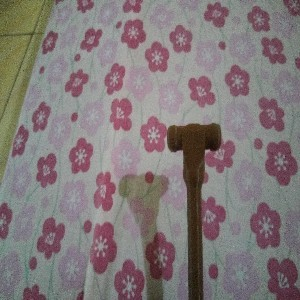palu: (166, 122, 222, 300)
